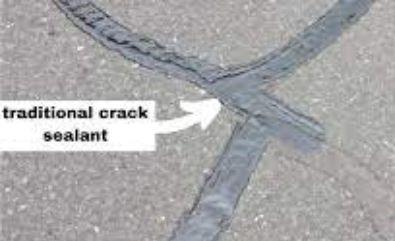crack: (51, 0, 313, 84)
